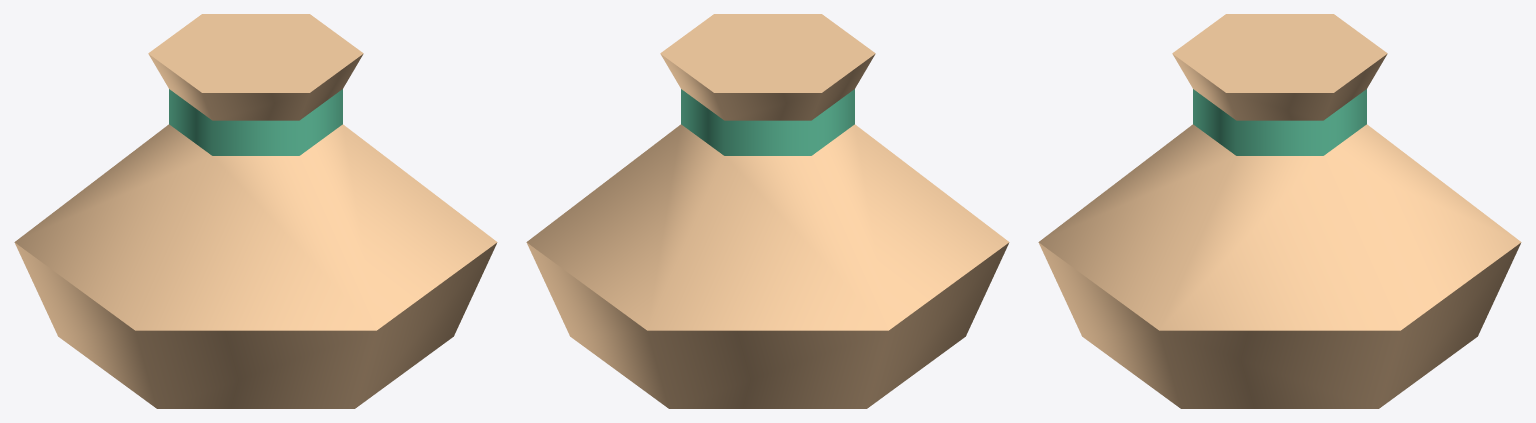
Rendered from dimSum.obj.
3 views of the same model, side by side, from view 1: azimuth 30°, elevation 25°; view 2: azimuth 150°, elevation 25°; view 3: azimuth 270°, elevation 25° (orthographic).
Parts seen in each view (by area): view 1: dimSum; view 2: dimSum; view 3: dimSum.
Part boxes in pixels (x1=…): dimSum: x1=14, y1=14, x2=497, y2=408; dimSum: x1=526, y1=14, x2=1009, y2=408; dimSum: x1=1038, y1=14, x2=1521, y2=408.
Bounding box in the file's own units: 0.1607 × 0.12 × 0.1856.
